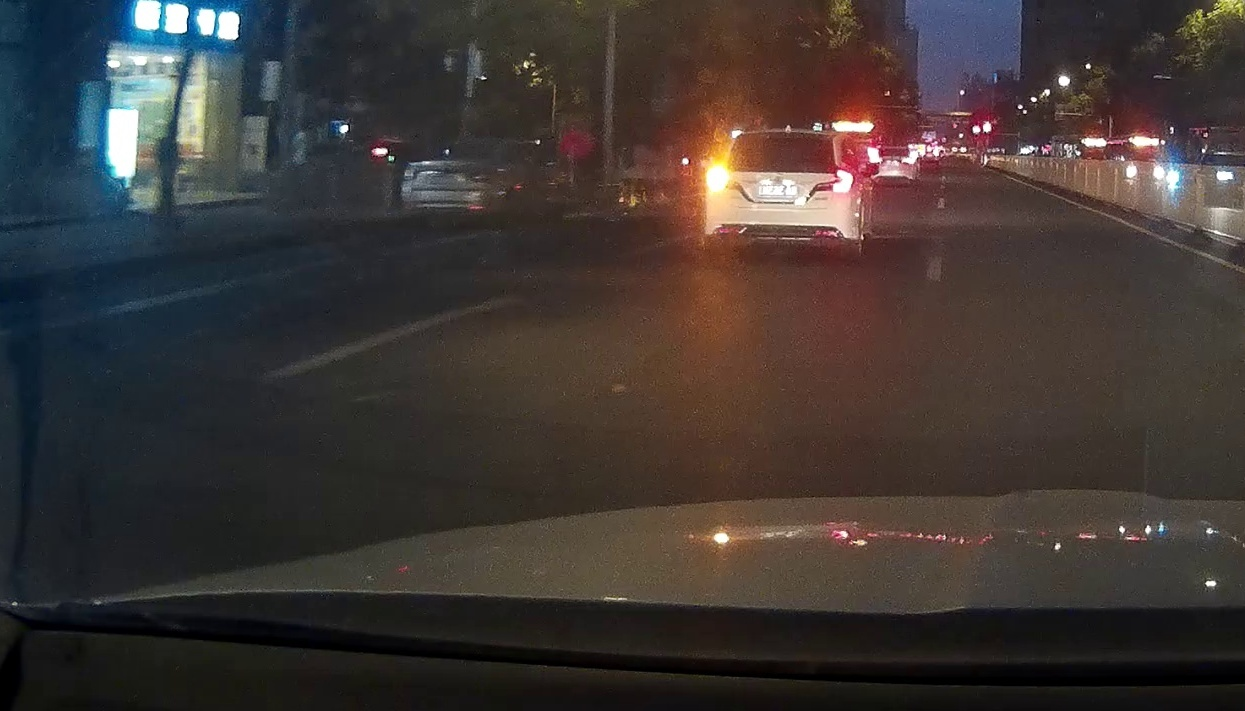L_light: (706, 163, 736, 192)
R_light: (816, 169, 854, 192)
T_light: (774, 135, 796, 140)
night-left: (704, 128, 856, 262)
